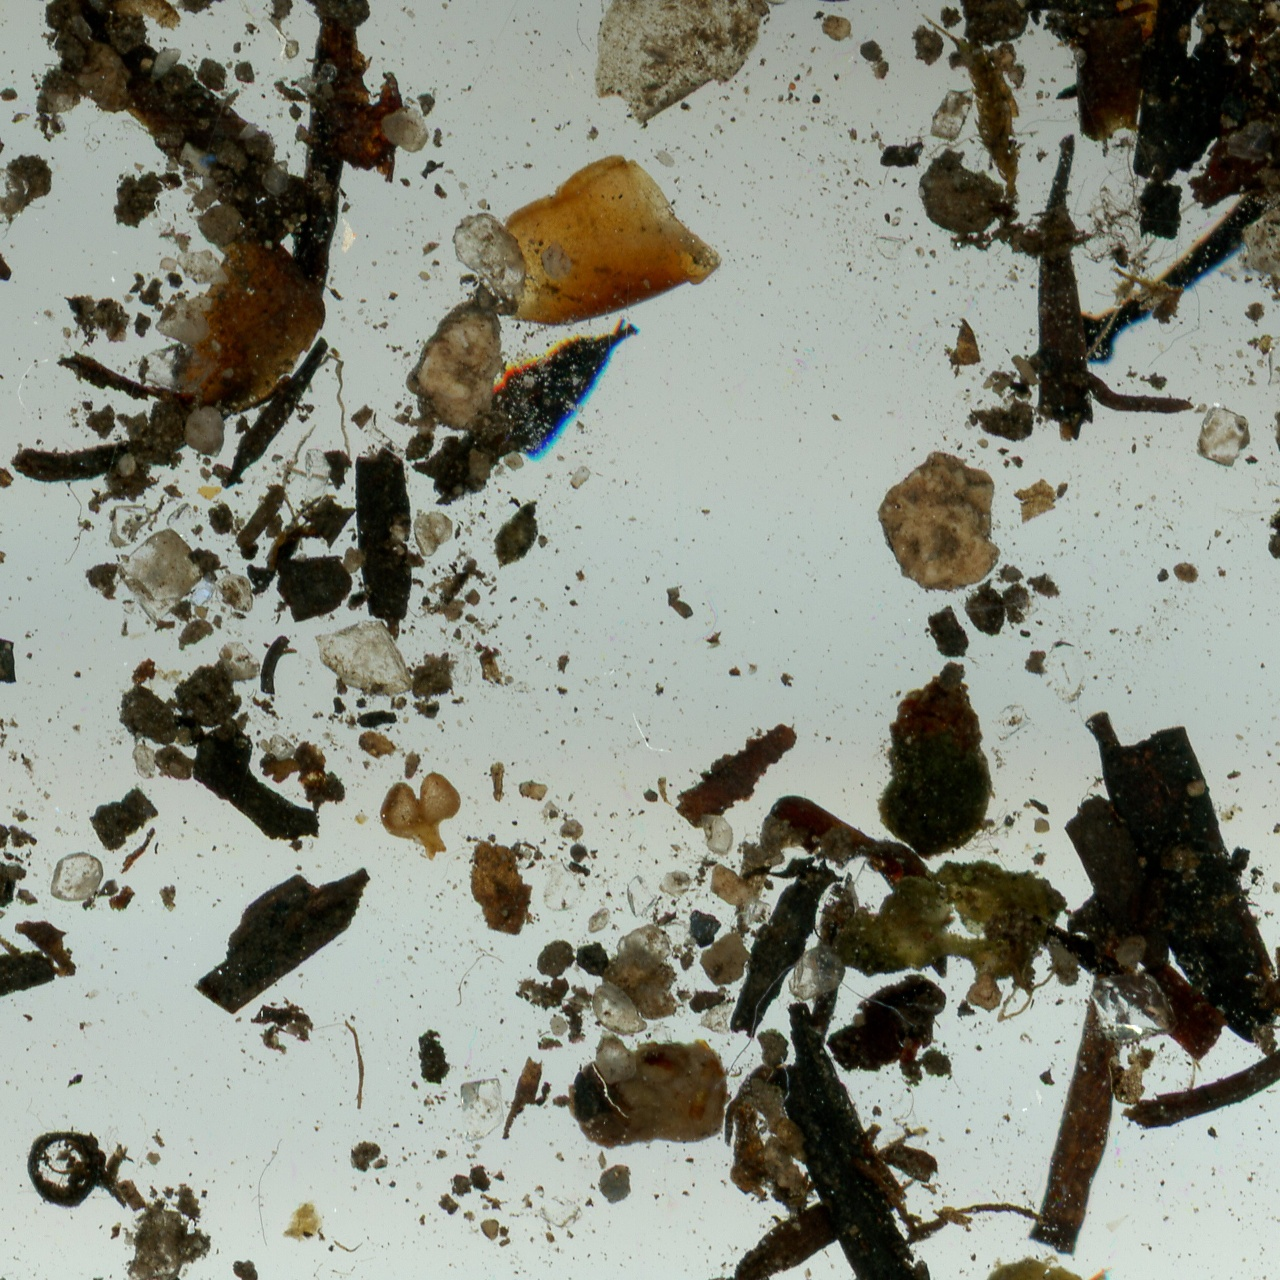arthropod: (1108, 241, 1130, 270)
